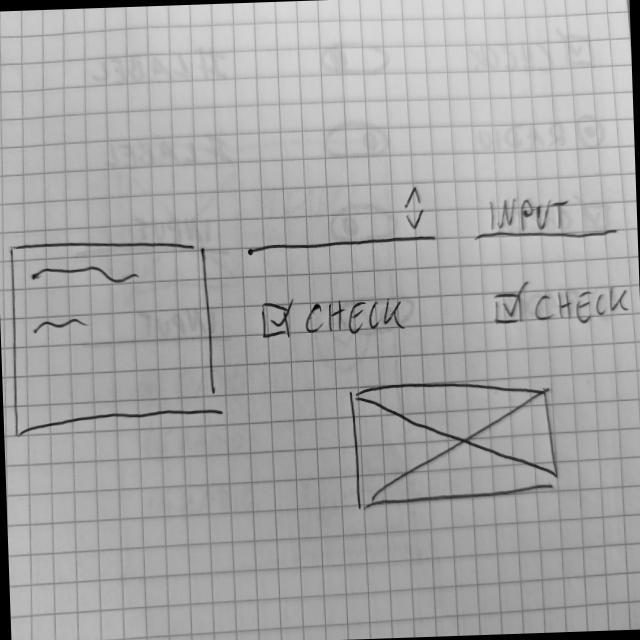checkbox: (260, 291, 409, 341), (492, 276, 634, 328)
image: (346, 375, 562, 510)
input: (470, 188, 619, 245)
number-input: (242, 182, 442, 255)
textarea: (6, 233, 218, 437)
